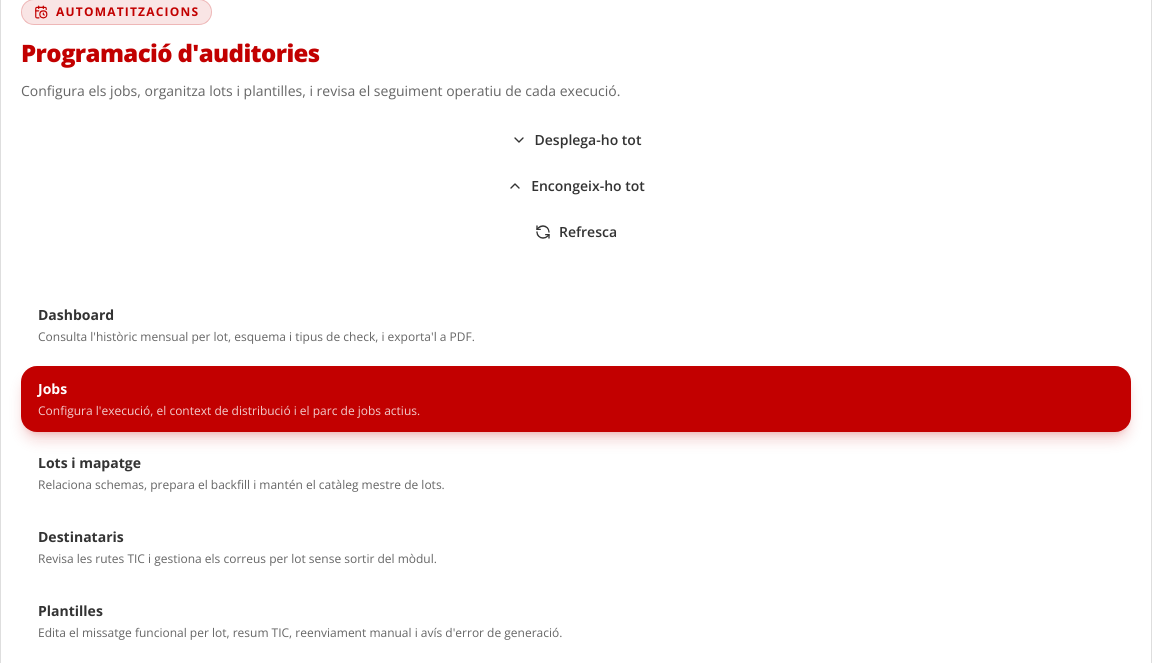
Test: AutomationView starts on Jobs and lets you switch internal screens
Expected: the text "Jobs" is shown, [38,379,67,398]
Expected: the heading "Programació d'auditories" is shown, [21,36,320,69]
Click the button "Lots i mapatge": (89, 462) [21,440,1131,506]
(page scrolled)
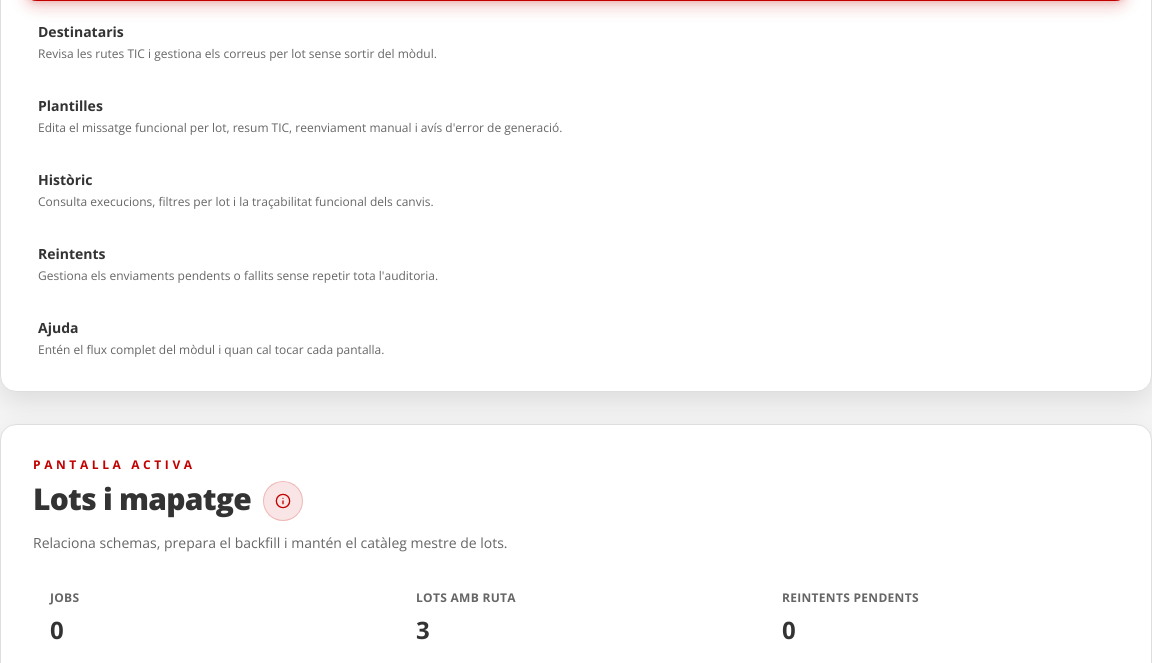
Click the button "Ajuda": (58, 328) [21,305,1131,371]
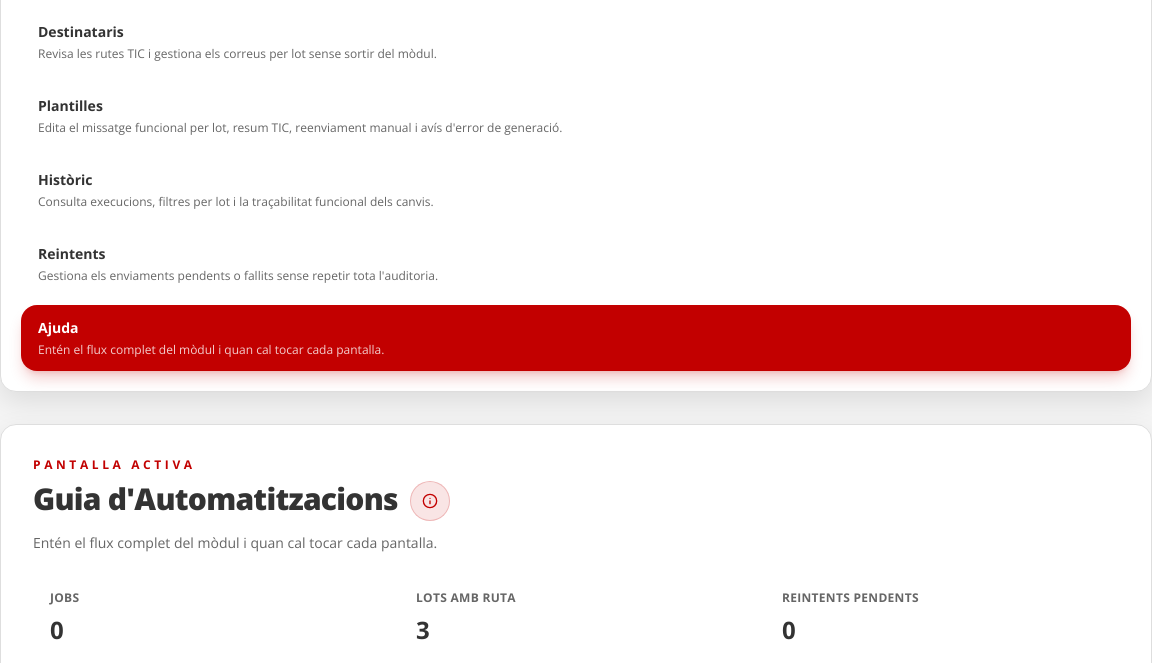
Expected: the heading "Guia d'Automatitzacions" is shown, [33,481,398,517]
